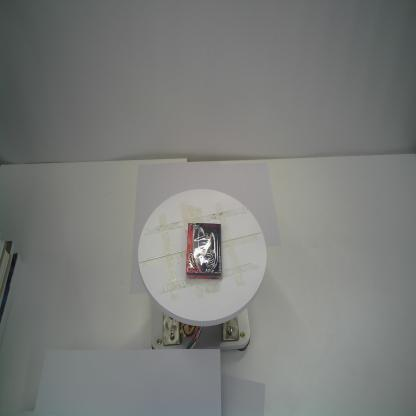Gum: (186, 223, 222, 279)
